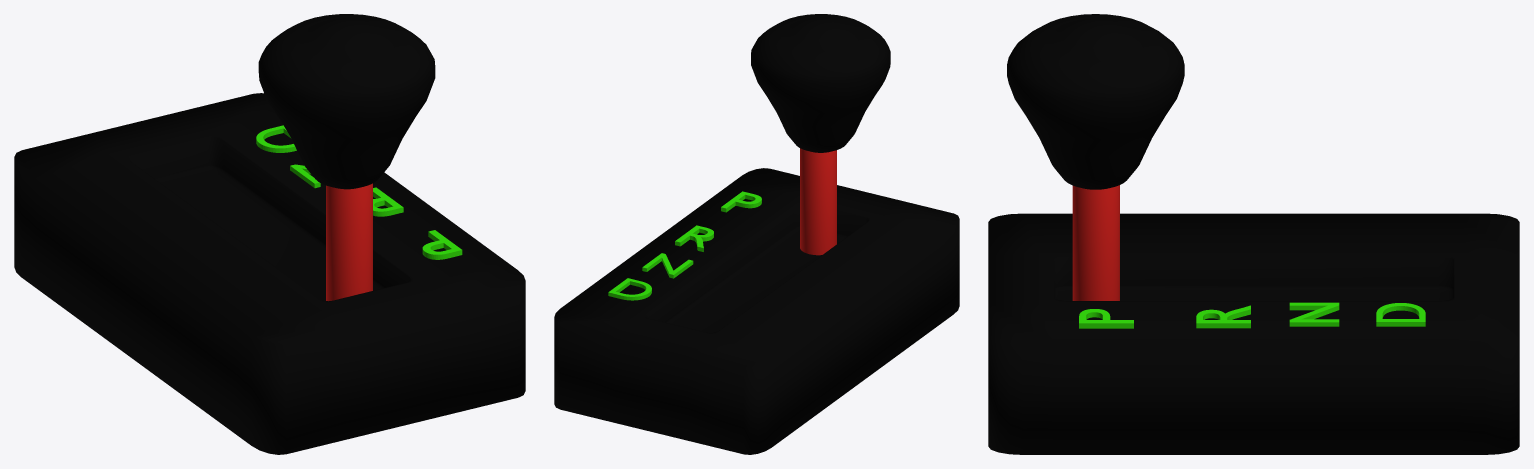
The model's file is Rachag.fbx.
The picture shows the model from 3 angles, left to right: view 1: azimuth 30°, elevation 25°; view 2: azimuth 150°, elevation 25°; view 3: azimuth 270°, elevation 25°; orthographic projection. The views are drawn at different scales.
Parts seen in each view (by area): view 1: Текст, Цилиндр.007; view 2: Текст, Цилиндр.007; view 3: Текст, Цилиндр.007.
Part boxes in pixels (x1,y1,x2,y2): Текст: (14,93,525,454); Цилиндр.007: (258,14,435,301); Текст: (554,168,959,454); Цилиндр.007: (751,14,890,255); Текст: (988,213,1519,454); Цилиндр.007: (1007,14,1184,300).
Size of the model in its own units: 10 by 12.9 by 17.18.
